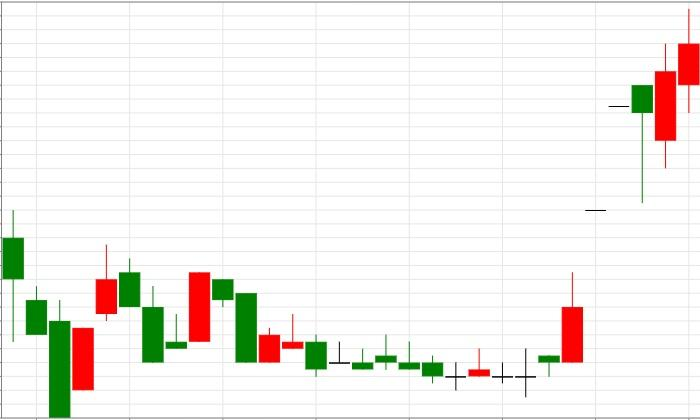hanging_man_fall: (514, 85, 654, 397)
